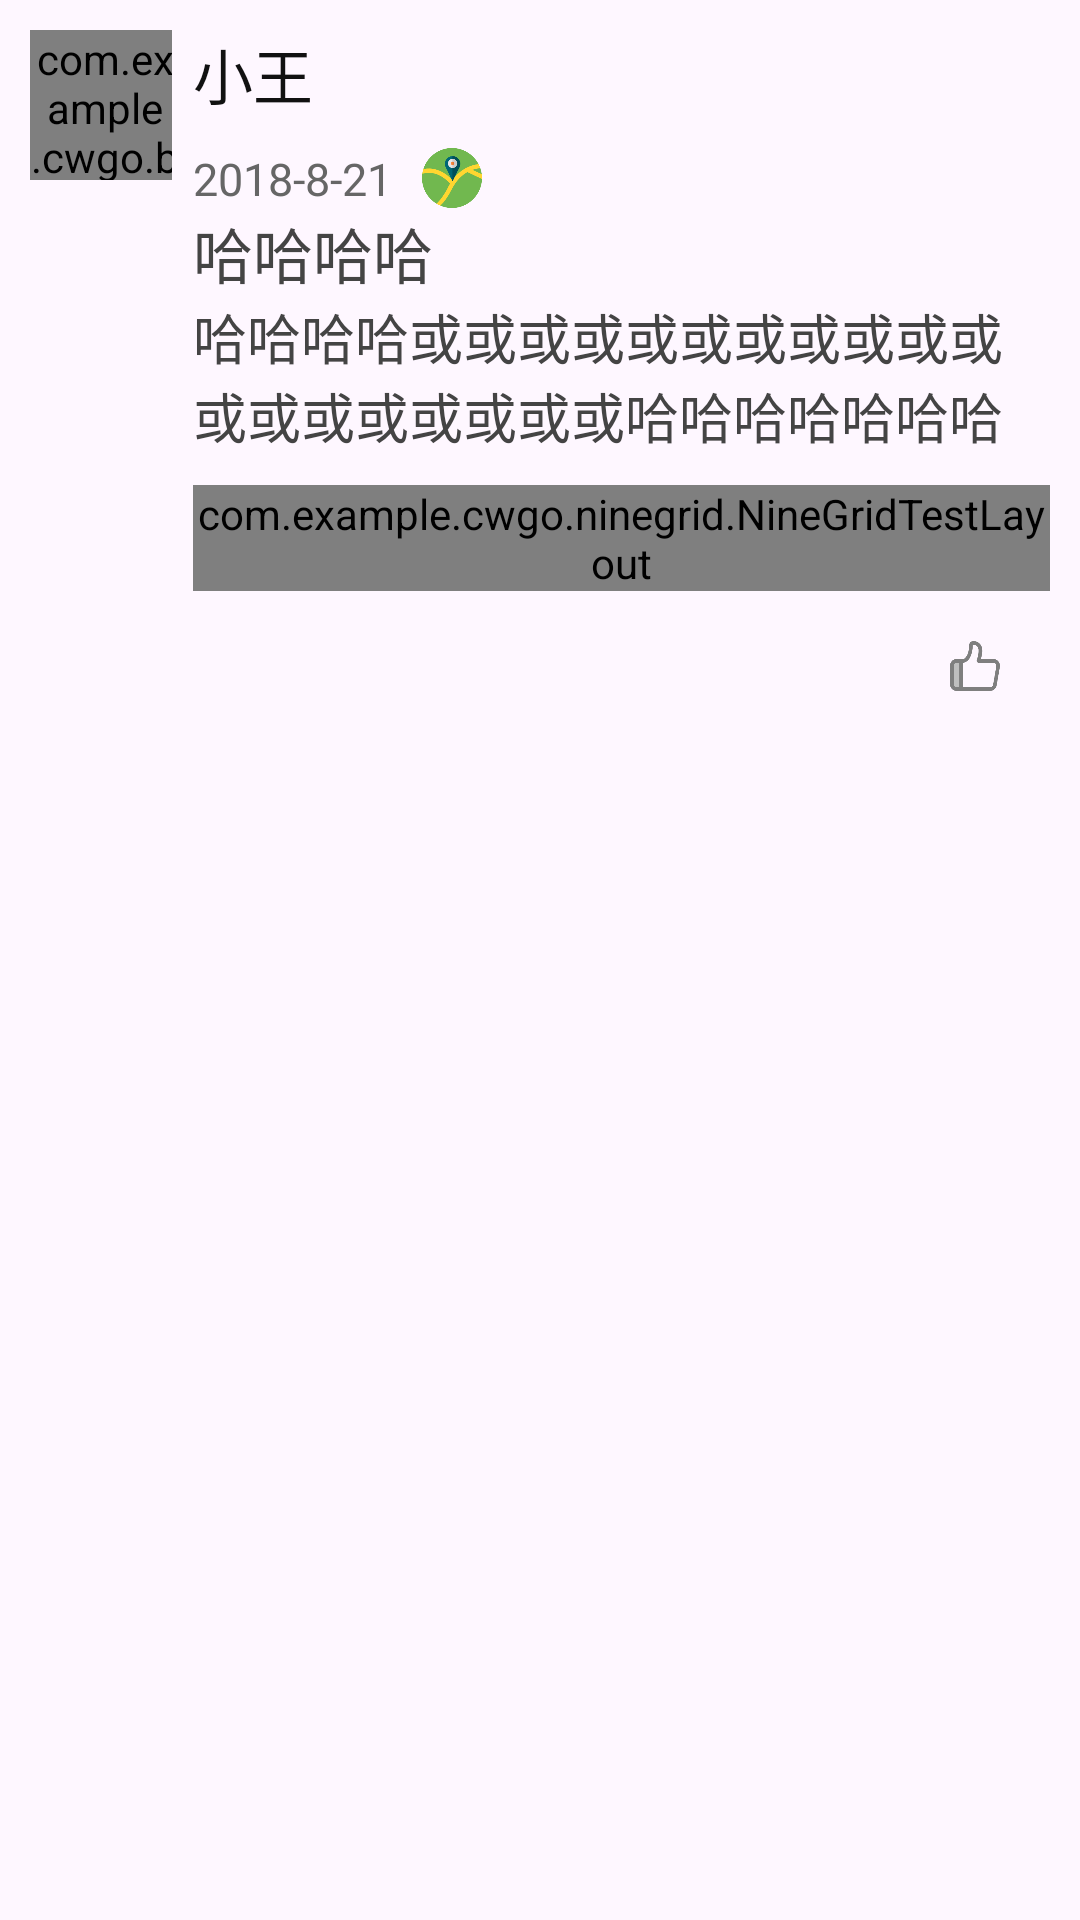

Where icons sit on this 1080px x 1920px app screen, as (x1, y1, x2, y2):
position: (422, 148, 482, 208)
